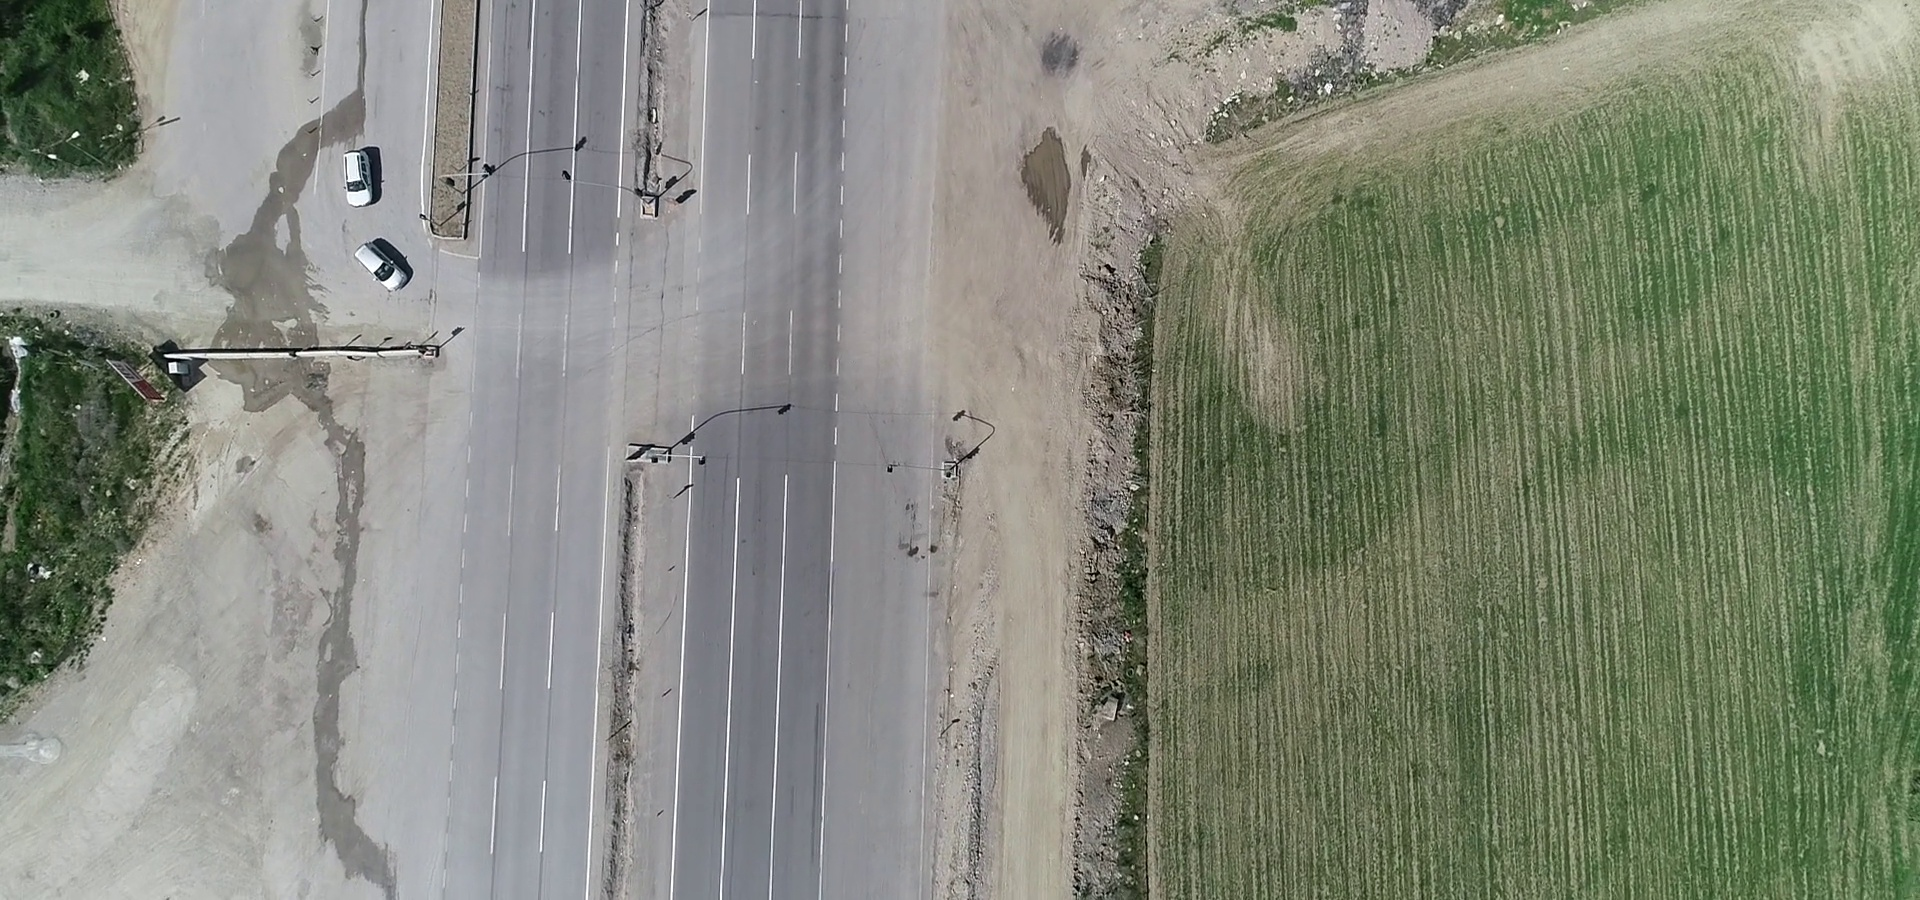araba: (347, 238, 414, 301), (333, 142, 387, 216)
